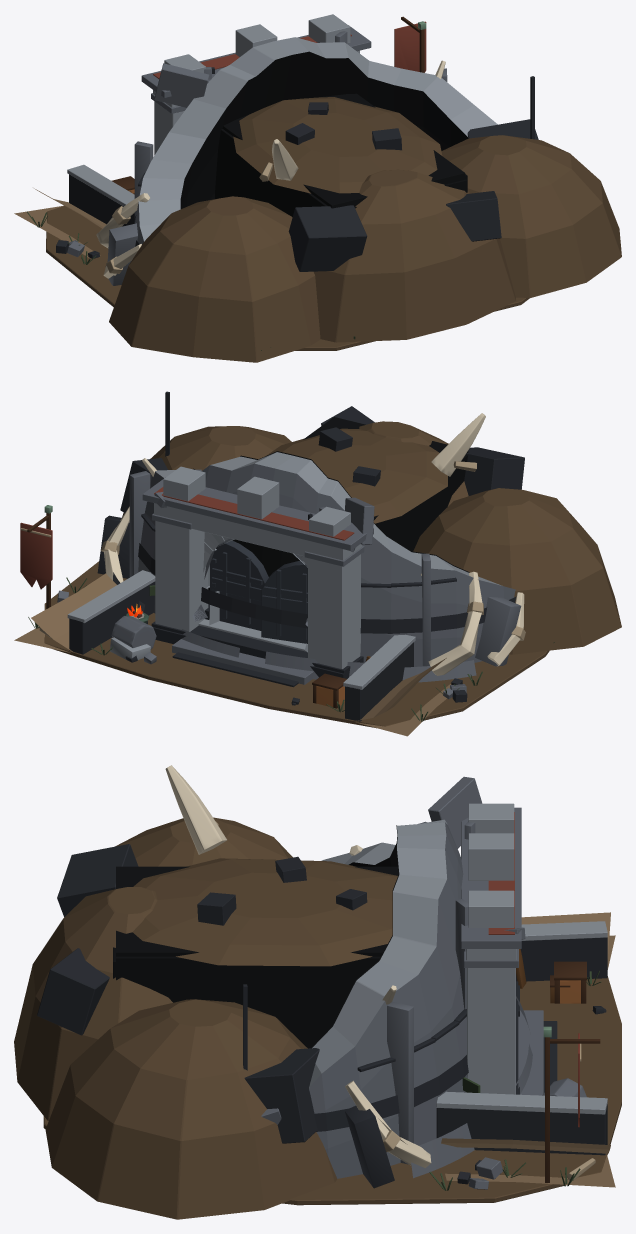
The model's file is 折壳入口.glb.
The picture shows the model from 3 angles, top to bottom: view 1: azimuth 30°, elevation 25°; view 2: azimuth 150°, elevation 25°; view 3: azimuth 270°, elevation 25°; orthographic projection. The views are drawn at different scales.
Parts seen in each view (by area): view 1: FS-earth_dark, FS-ancient_pale, FS-void, FS-ancient_dark, FS-ancient, FS-bone, FS-team, FS-earth, FS-wood_dark, FS-bone_dark; view 2: FS-earth_dark, FS-ancient, FS-ancient_pale, FS-ancient_dark, FS-bone, FS-earth, FS-void, dr_leaf_b, FS-team, dr_leaf_a, FS-wood_dark, FS-bone_dark (+1 smaller); view 3: FS-earth_dark, FS-ancient, FS-ancient_pale, FS-ancient_dark, FS-void, FS-earth, FS-bone, FS-wood_dark, FS-team, FS-moss_dark.
Part boxes in pixels (x1,y1,x2,y2): FS-earth_dark: (46,97,621,362); FS-ancient_pale: (67,14,497,241); FS-void: (180,51,468,216); FS-ancient_dark: (56,67,538,271); FS-ancient: (67,25,447,285); FS-bone: (96,60,445,278); FS-team: (153,21,426,78); FS-earth: (14,188,106,257); FS-wood_dark: (111,16,424,194); FS-bone_dark: (106,162,272,273); FS-earth_dark: (44,421,621,728); FS-ancient: (57,463,521,699); FS-ancient_pale: (67,452,502,689); FS-ancient_dark: (69,391,524,721); FS-bone: (104,413,524,675); FS-earth: (14,573,451,736); FS-void: (193,417,469,590); dr_leaf_b: (210,540,268,630); FS-team: (20,487,354,589); dr_leaf_a: (261,561,307,643); FS-wood_dark: (27,513,366,708); FS-bone_dark: (39,461,525,640); FS-earth_dark: (14,817,621,1219); FS-ancient: (261,776,586,1189); FS-ancient_pale: (309,803,607,1114); FS-ancient_dark: (37,844,607,1188); FS-void: (113,825,399,1048); FS-earth: (441,912,615,1187); FS-bone: (165,765,431,1167); FS-wood_dark: (545,961,600,1182); FS-team: (488,812,579,1127); FS-moss_dark: (429,970,601,1190).
Size of the model in its own units: 12.98 by 4.56 by 10.62.
